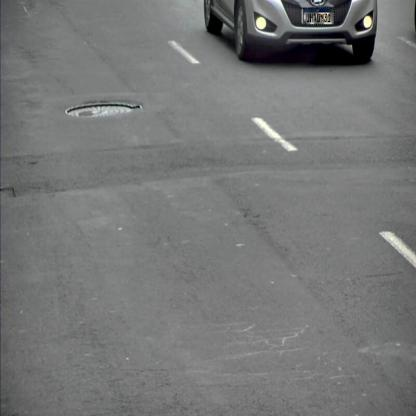PlacaM: (304, 8, 335, 25)
